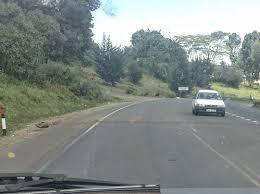Bump: (96, 119, 259, 127)
